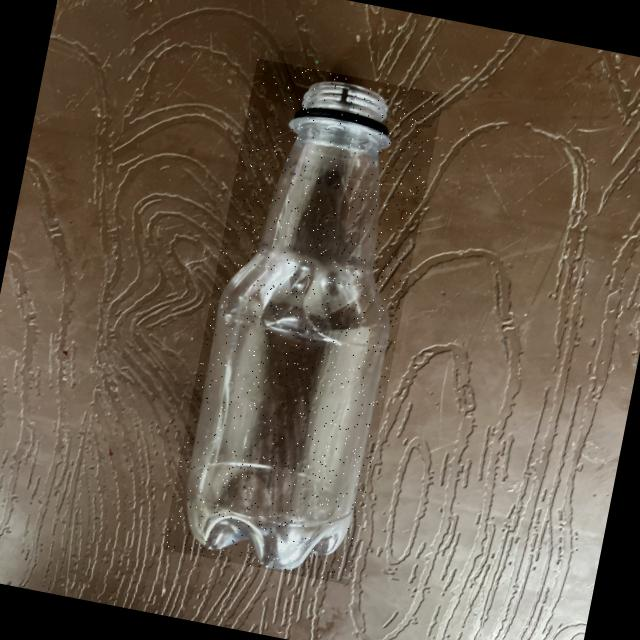PET_With_Cap: (162, 57, 444, 584)
